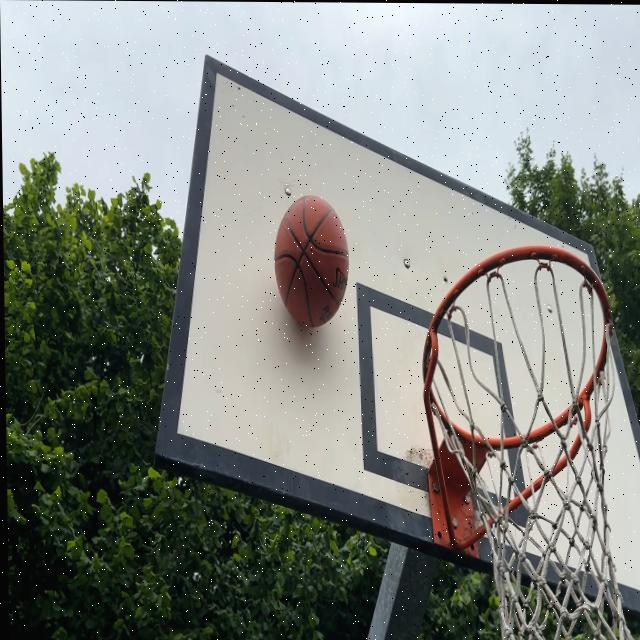rebound_hit: (273, 194, 350, 342)
